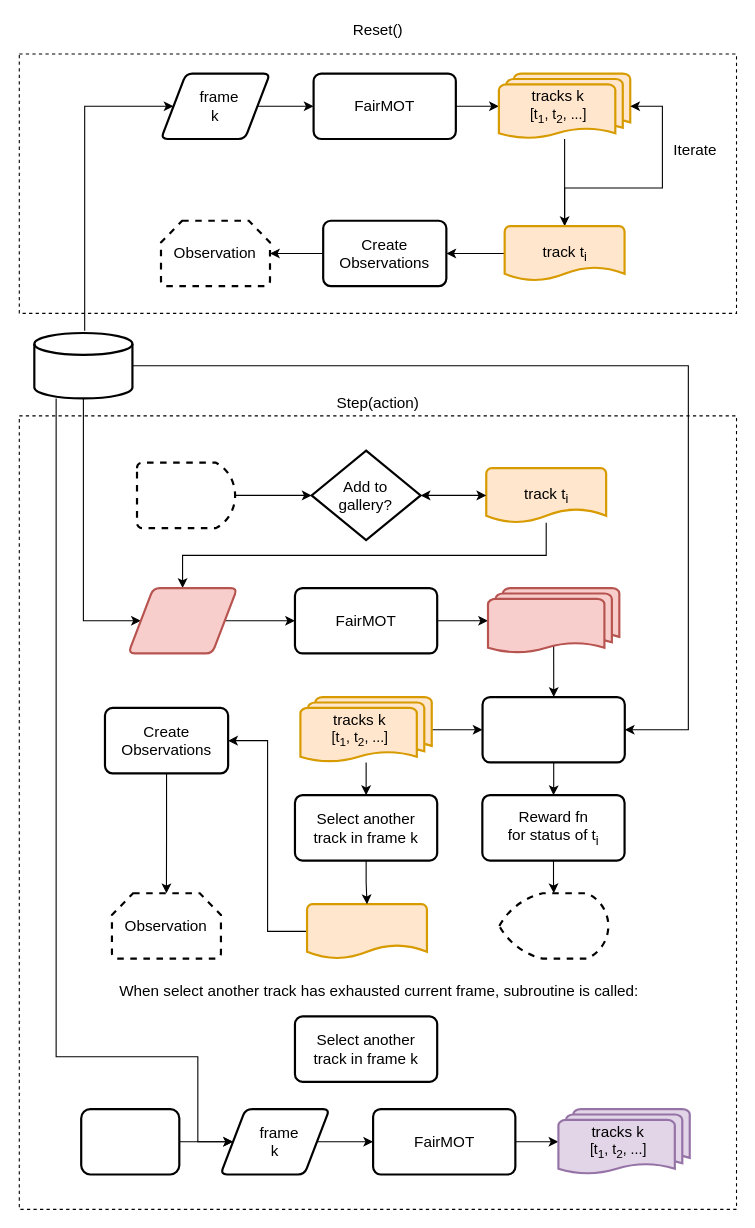
This 755x1228 diagram has some shape labels left out. Each missing label, with the centre of its shape:
Action: the point at 185,495
CLEAR MOT with tracks in k, k+1: the point at 553,729
frame k + 1: the point at 182,620
k += 1: the point at 130,1141
MOT Data: the point at 83,365
Reward: the point at 553,925
track t i ': the point at 366,931
tracks k+1 [t 1 , t 2 , ...]: the point at 553,620
